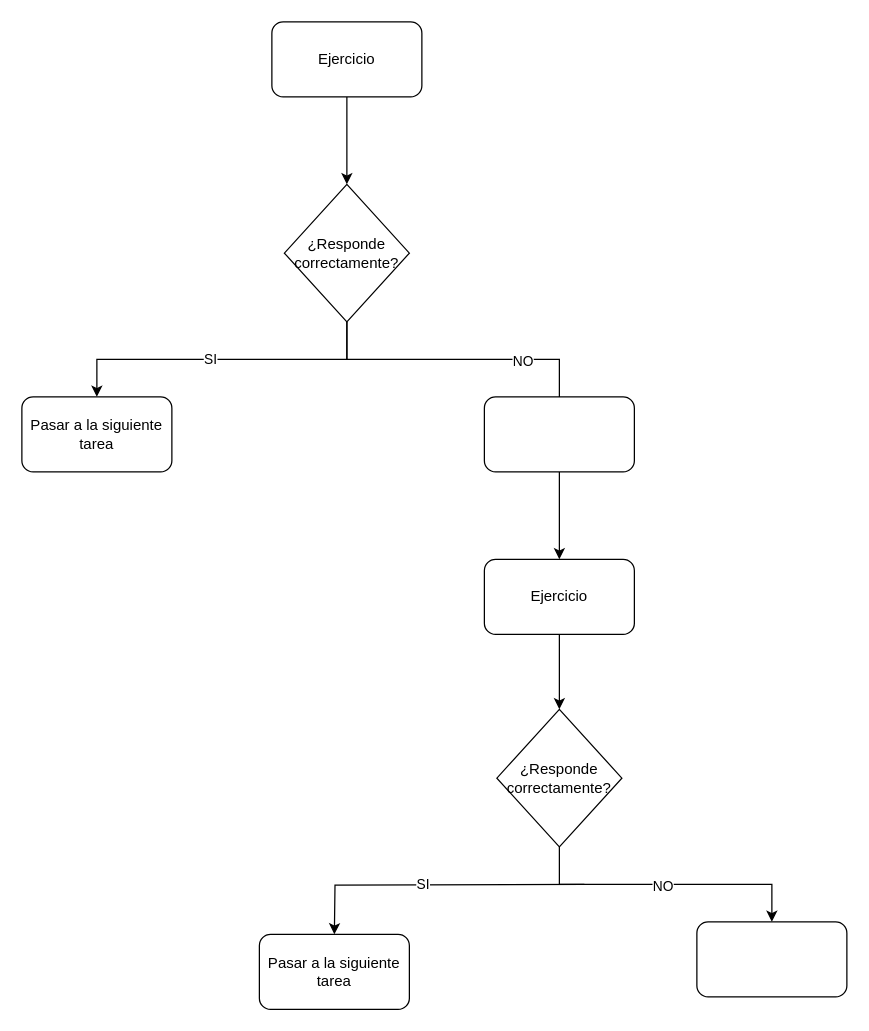
Some shapes in this 869 by 1031 pixel diagram are drawn without their labels. The centre of each missing label's shape, as x and y in pixels:
Entregar la solución del problema: [771,959]
Entregar un hint: [558,434]
